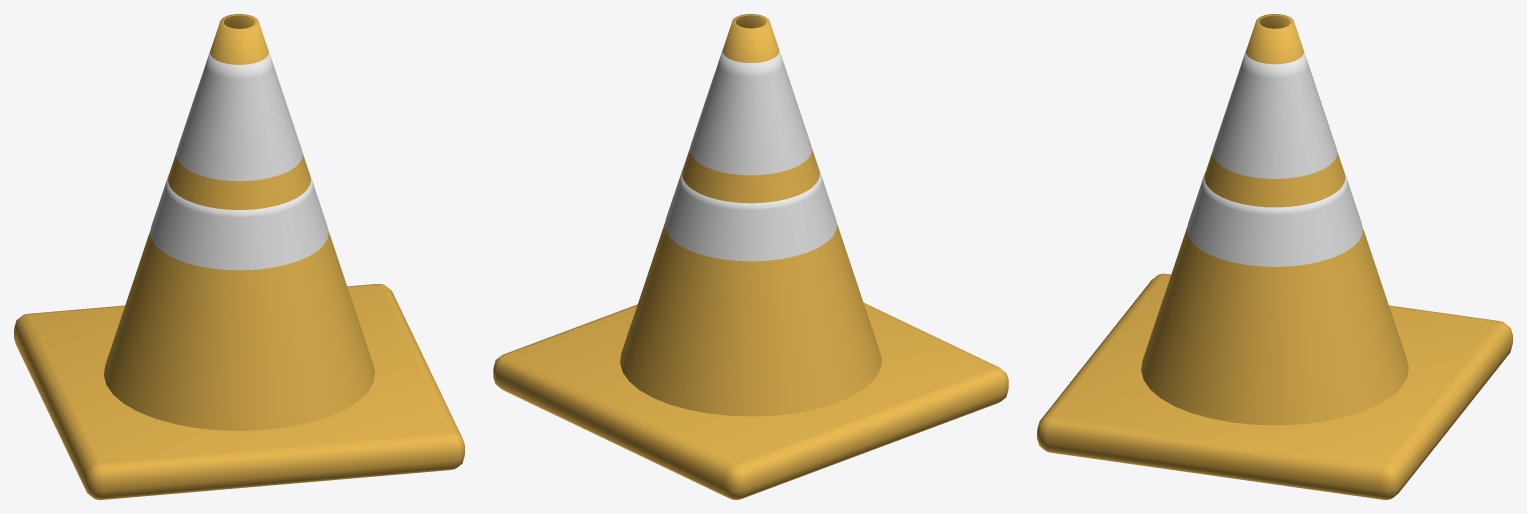
Rendered from Way.fbx.
The picture shows the model from 3 angles, left to right: view 1: azimuth 30°, elevation 25°; view 2: azimuth 150°, elevation 25°; view 3: azimuth 270°, elevation 25°; orthographic projection. The views are drawn at different scales.
Parts seen in each view (by area): view 1: Cube_10; view 2: Cube_10; view 3: Cube_10.
Boxes of the visible parts, bbox=[...] form: Cube_10: bbox=[14, 14, 464, 499]; Cube_10: bbox=[493, 14, 1008, 499]; Cube_10: bbox=[1037, 14, 1512, 499].
Size of the model in its own units: 249 by 221 by 249.
